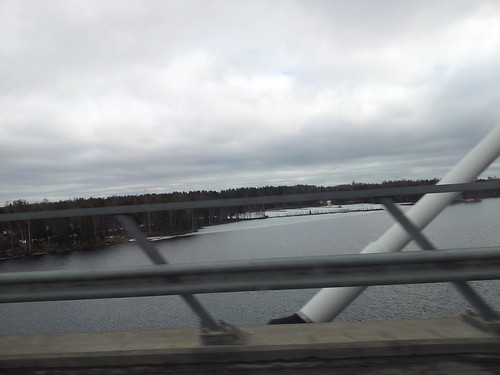sky: (6, 1, 500, 189)
vegetation: (2, 178, 500, 256)
